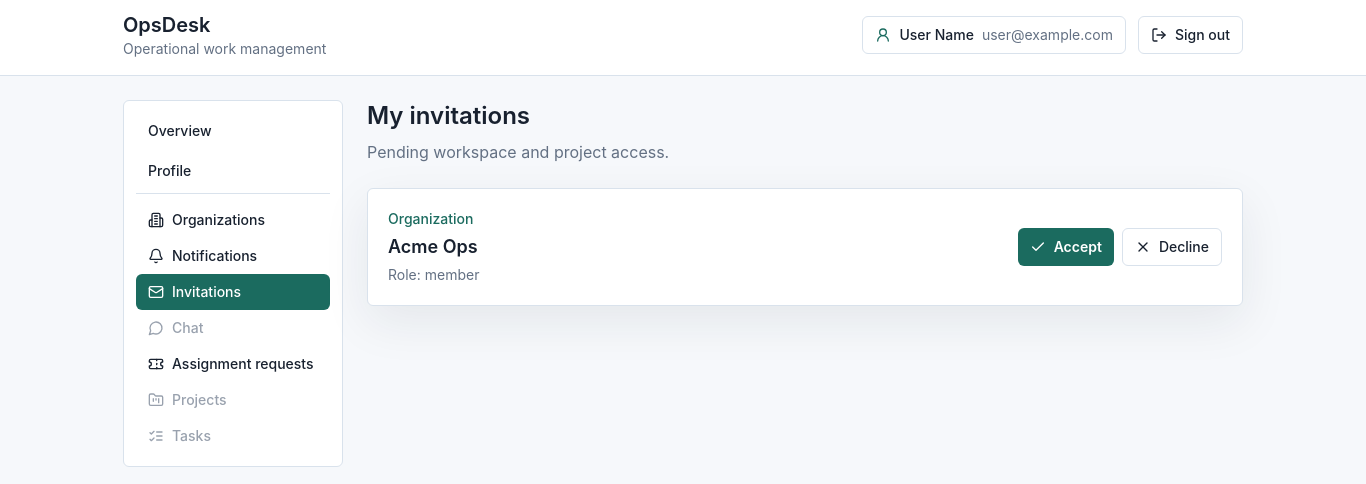
Test case: SPEC-105 frontend organizations UI › lets invited users accept their own invitations
The width and height of the screenshot is (1366, 484).
expect the heading "Acme Ops" is shown: met, box [388, 233, 479, 261]
Click the button "Accept" at {"x": 1066, "y": 247}, box [1018, 228, 1114, 266]
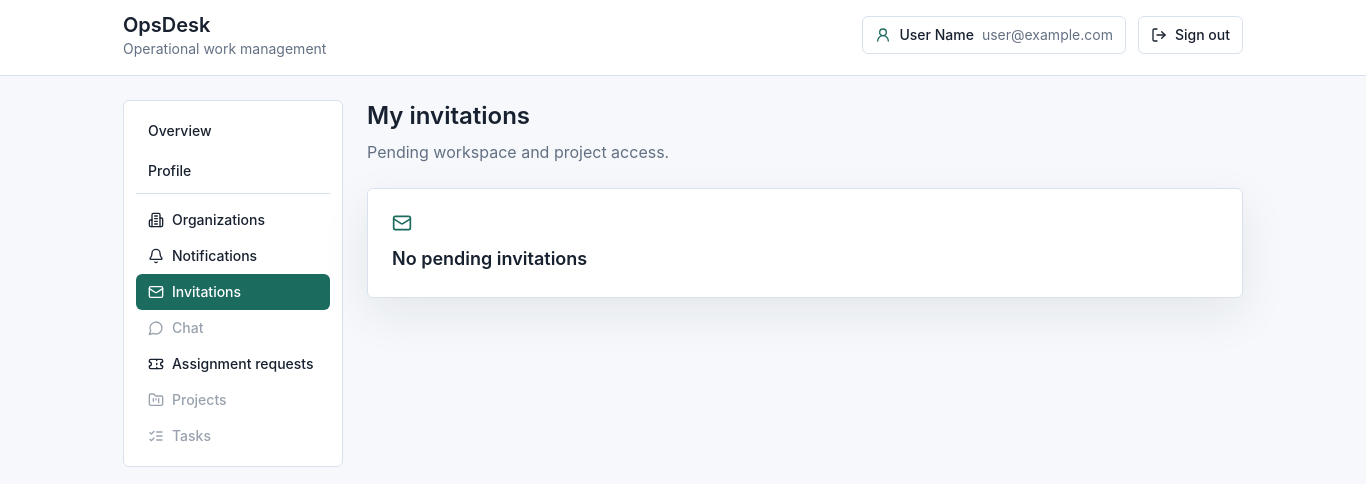
expect the heading "No pending invitations" is shown: met, box [392, 248, 587, 269]
